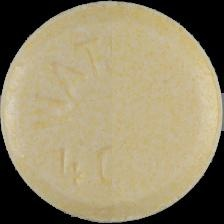0591-0408: (0, 0, 224, 224)
